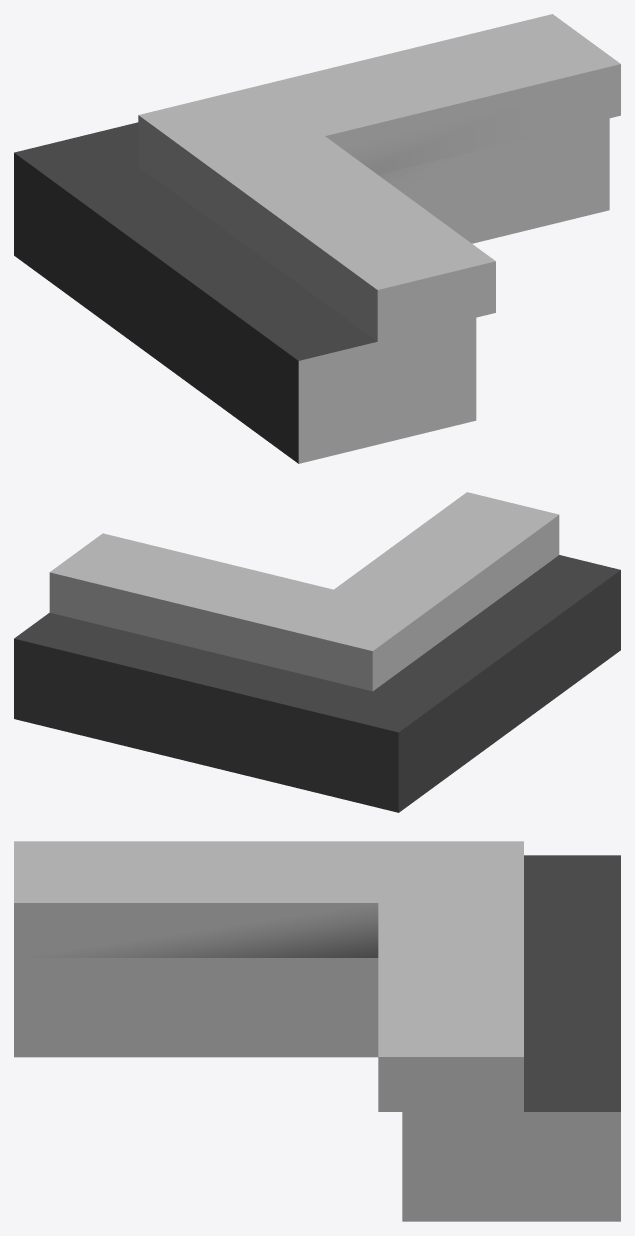
The model's file is LightStoneFloorMediumIndustrialInternalCurve1.fbx.
3 renders of one model, top to bottom at view 1: azimuth 30°, elevation 25°; view 2: azimuth 150°, elevation 25°; view 3: azimuth 270°, elevation 25°, orthographic. The views are drawn at different scales.
Visible parts, largest first — view 1: LightStoneFloorMediumIndustrialInternalCurve1; view 2: LightStoneFloorMediumIndustrialInternalCurve1; view 3: LightStoneFloorMediumIndustrialInternalCurve1.
Boxes of the visible parts, <box> form: LightStoneFloorMediumIndustrialInternalCurve1: <box>14,14,620,463</box>; LightStoneFloorMediumIndustrialInternalCurve1: <box>14,492,620,812</box>; LightStoneFloorMediumIndustrialInternalCurve1: <box>14,841,620,1221</box>.
Size of the model in its own units: 500 by 150 by 500.
Materials: 2 (2 with a texture image).
